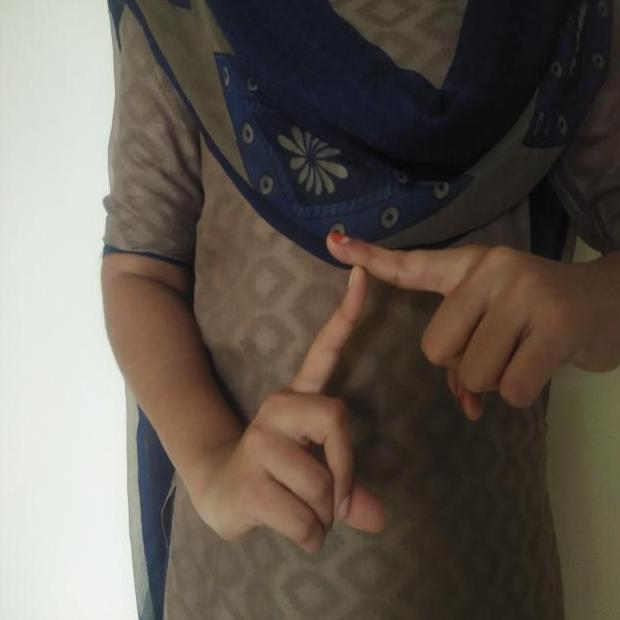S: (222, 215, 596, 571)
